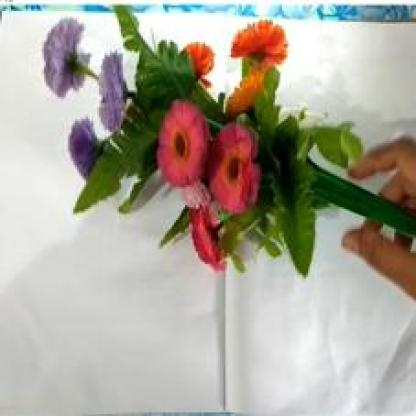flower: (41, 6, 352, 268)
